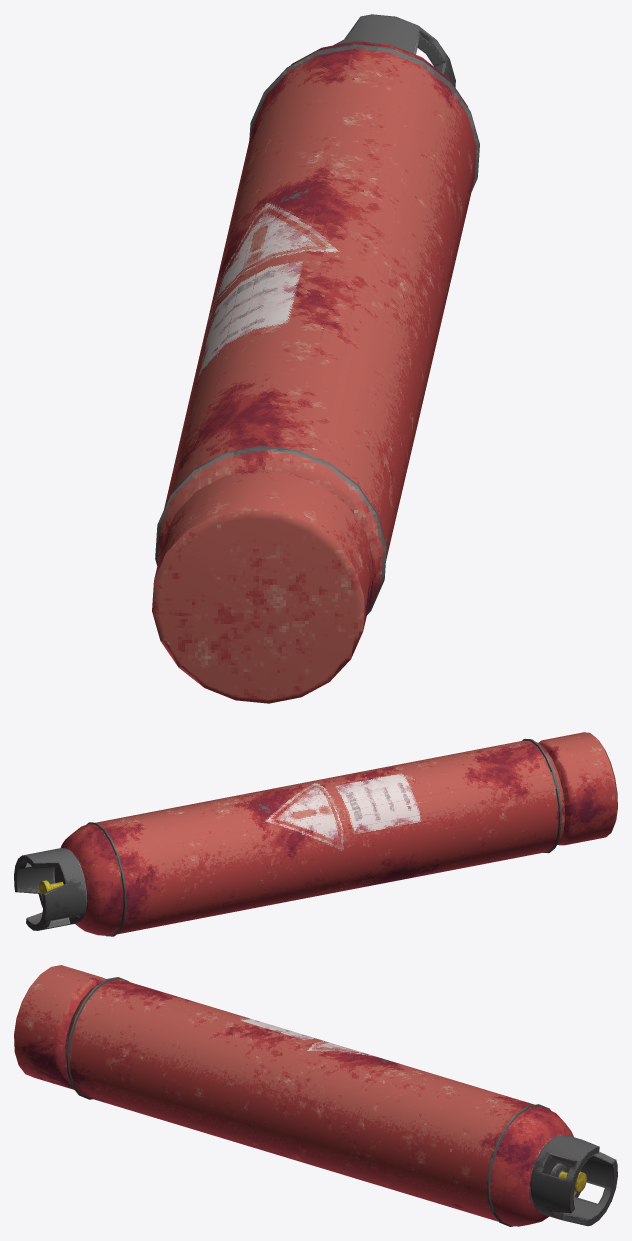
Rendered from gas_cylinder.glb.
3 renders of one model, top to bottom at view 1: azimuth 30°, elevation 25°; view 2: azimuth 150°, elevation 25°; view 3: azimuth 270°, elevation 25°, orthographic. The views are drawn at different scales.
Visible parts, largest first — view 1: mesh; view 2: mesh; view 3: mesh.
Boxes of the visible parts, x1,y1,x2,y2 form: mesh: (152,14,479,703); mesh: (14,732,617,936); mesh: (14,965,617,1226).
Size of the model in its own units: 4.68 by 1.25 by 6.
Materials: 1 (1 with a texture image).
